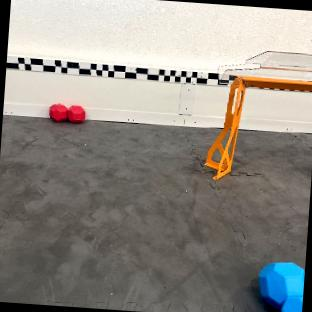V5_BLUE: (259, 262, 304, 312)
V5_RED: (48, 104, 84, 123)
